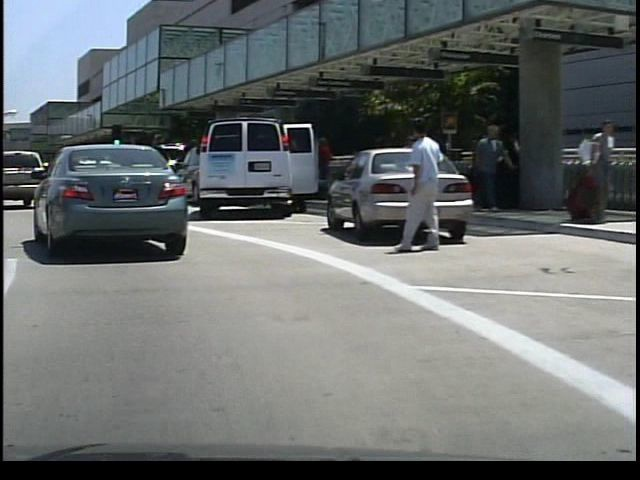person: (391, 113, 440, 254), (574, 114, 614, 222), (470, 120, 511, 213), (310, 132, 332, 199)
